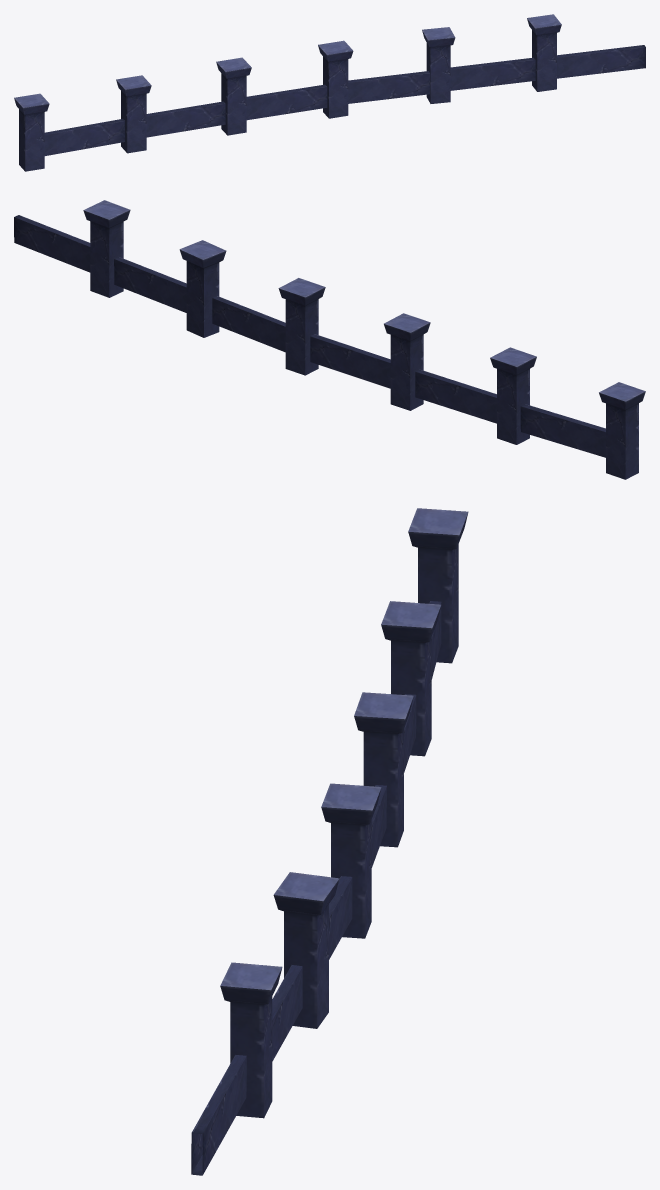
File: Area07_15.fbx
The picture shows the model from 3 angles, top to bottom: view 1: azimuth 30°, elevation 25°; view 2: azimuth 150°, elevation 25°; view 3: azimuth 270°, elevation 25°; orthographic projection. The views are drawn at different scales.
Parts seen in each view (by area): view 1: Area07_15; view 2: Area07_15; view 3: Area07_15.
Part boxes in pixels (x1,y1,x2,y2): Area07_15: (14,14,645,171); Area07_15: (14,200,645,479); Area07_15: (191,508,468,1175).
Bounding box in the file's own units: 6286 × 698 × 1329.
